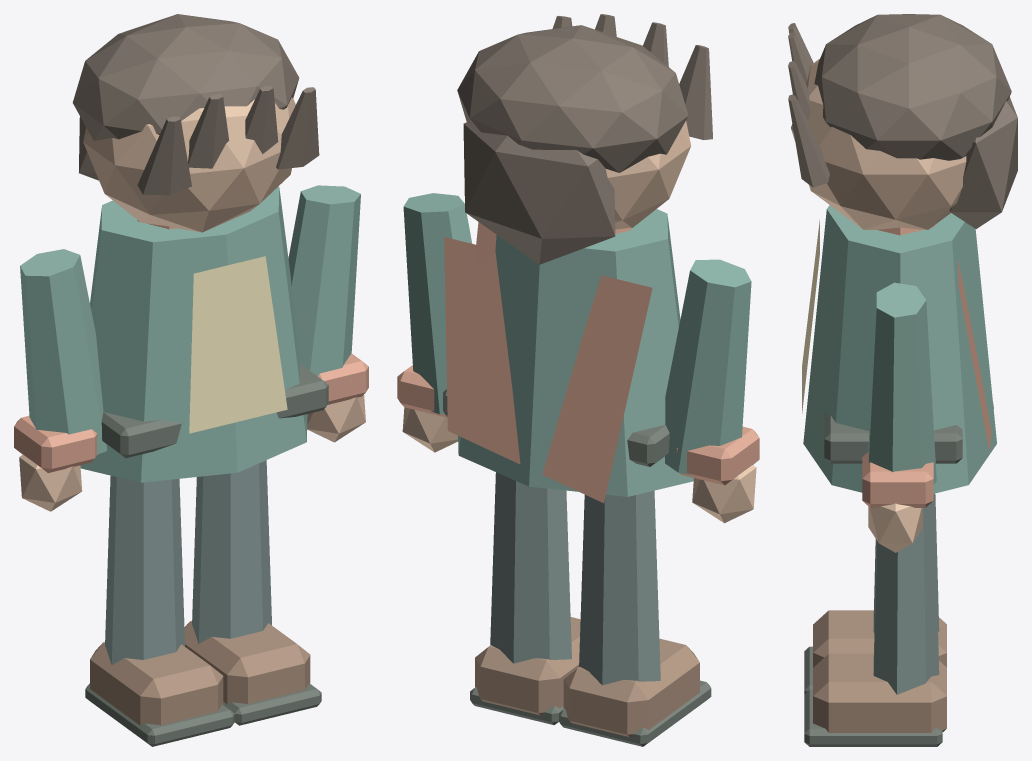
Rendered from echo_world_faceless_painterly.glb.
3 renders of one model, left to right at view 1: azimuth 30°, elevation 25°; view 2: azimuth 150°, elevation 25°; view 3: azimuth 270°, elevation 25°, orthographic. The views are drawn at different scales.
Parts seen in each view (by area): view 1: GEO_Jacket_Tunic, GEO_Hair_Crown, GEO_Shirt_Bib, GEO_PantsLeg_L, GEO_Skin_Head, GEO_Jacket_Arm_L, GEO_PantsLeg_R, GEO_Jacket_Arm_R, GEO_Shoe_L, GEO_Shoe_R, GEO_Accent_Belt, GEO_Accent_Cuff_L (+9 smaller); view 2: GEO_Jacket_Tunic, GEO_Accent_Cape, GEO_Hair_Crown, GEO_Hair_Back, GEO_PantsLeg_L, GEO_Jacket_Arm_L, GEO_PantsLeg_R, GEO_Jacket_Arm_R, GEO_Shoe_L, GEO_Shoe_R, GEO_Skin_Head, GEO_Accent_Cuff_L (+9 smaller); view 3: GEO_Jacket_Tunic, GEO_Hair_Crown, GEO_Skin_Head, GEO_Jacket_Arm_R, GEO_PantsLeg_R, GEO_Shoe_R, GEO_Hair_Back, GEO_Shoe_L, GEO_Accent_Cuff_R, GEO_Accent_Belt, GEO_ShoeSole_R, GEO_Skin_Hand_R (+7 smaller).
Boxes of the visible parts, x1=… form: GEO_Jacket_Tunic: x1=80, y1=186, x2=307, y2=482; GEO_Hair_Crown: x1=72, y1=14, x2=299, y2=140; GEO_Shirt_Bib: x1=189, y1=256, x2=287, y2=433; GEO_PantsLeg_L: x1=105, y1=475, x2=184, y2=664; GEO_Skin_Head: x1=83, y1=97, x2=295, y2=232; GEO_Jacket_Arm_L: x1=20, y1=249, x2=107, y2=454; GEO_PantsLeg_R: x1=192, y1=460, x2=271, y2=643; GEO_Jacket_Arm_R: x1=288, y1=185, x2=360, y2=376; GEO_Shoe_L: x1=90, y1=642, x2=223, y2=725; GEO_Shoe_R: x1=184, y1=620, x2=310, y2=704; GEO_Accent_Belt: x1=101, y1=364, x2=328, y2=458; GEO_Accent_Cuff_L: x1=14, y1=416, x2=97, y2=472; GEO_Jacket_Tunic: x1=458, y1=209, x2=693, y2=496; GEO_Accent_Cape: x1=444, y1=237, x2=652, y2=503; GEO_Hair_Crown: x1=457, y1=25, x2=688, y2=172; GEO_Hair_Back: x1=463, y1=121, x2=615, y2=264; GEO_PantsLeg_L: x1=579, y1=490, x2=660, y2=685; GEO_Jacket_Arm_L: x1=665, y1=259, x2=751, y2=475; GEO_PantsLeg_R: x1=490, y1=472, x2=571, y2=663; GEO_Jacket_Arm_R: x1=403, y1=193, x2=472, y2=414; GEO_Shoe_L: x1=563, y1=638, x2=699, y2=736; GEO_Shoe_R: x1=475, y1=617, x2=580, y2=715; GEO_Skin_Head: x1=606, y1=121, x2=691, y2=229; GEO_Accent_Cuff_L: x1=676, y1=426, x2=759, y2=485; GEO_Jacket_Tunic: x1=803, y1=205, x2=996, y2=493; GEO_Hair_Crown: x1=814, y1=14, x2=1011, y2=160; GEO_Skin_Head: x1=791, y1=59, x2=966, y2=229; GEO_Jacket_Arm_R: x1=868, y1=282, x2=936, y2=484; GEO_PantsLeg_R: x1=873, y1=494, x2=939, y2=694; GEO_Shoe_R: x1=813, y1=653, x2=946, y2=732; GEO_Hair_Back: x1=949, y1=97, x2=1017, y2=228; GEO_Shoe_L: x1=813, y1=610, x2=946, y2=667; GEO_Accent_Cuff_R: x1=862, y1=452, x2=933, y2=507; GEO_Accent_Belt: x1=824, y1=412, x2=962, y2=463; GEO_ShoeSole_R: x1=804, y1=690, x2=942, y2=746; GEO_Skin_Hand_R: x1=868, y1=503, x2=922, y2=552.
Size of the model in its own units: 0.9021 by 1.68 by 0.5147.
